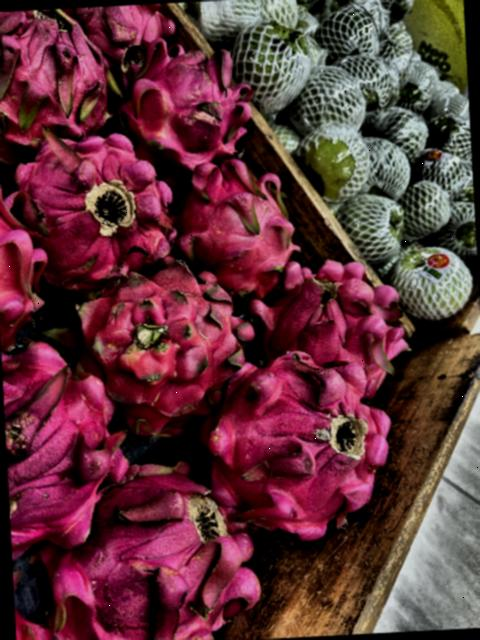buah-naga-matang: (61, 252, 259, 436), (45, 475, 265, 640), (212, 350, 400, 540), (2, 334, 132, 556), (4, 123, 177, 284), (243, 259, 412, 400), (121, 33, 267, 181), (164, 141, 298, 294), (0, 7, 106, 147), (67, 2, 182, 86), (0, 174, 51, 342)
